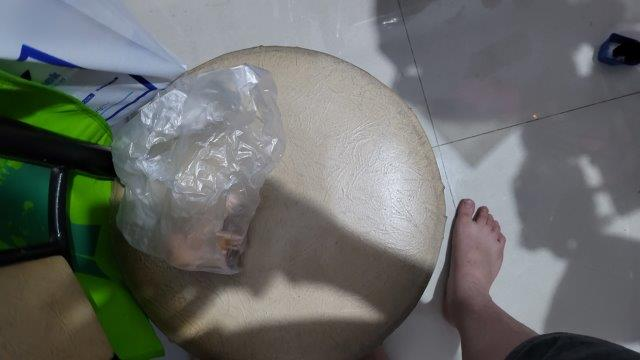plastik: (110, 66, 288, 273)
